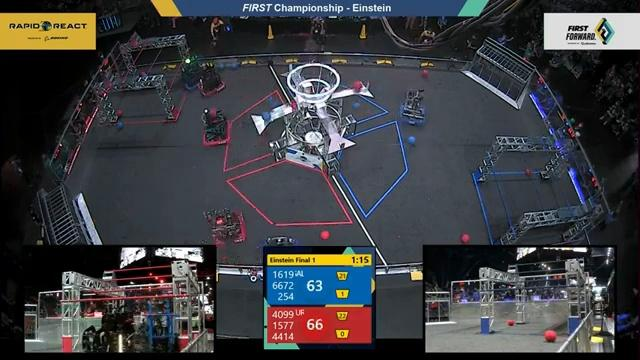robot: (200, 207, 251, 248), (193, 105, 236, 149), (397, 85, 430, 131), (195, 60, 228, 102), (259, 232, 303, 262), (180, 49, 210, 91)
